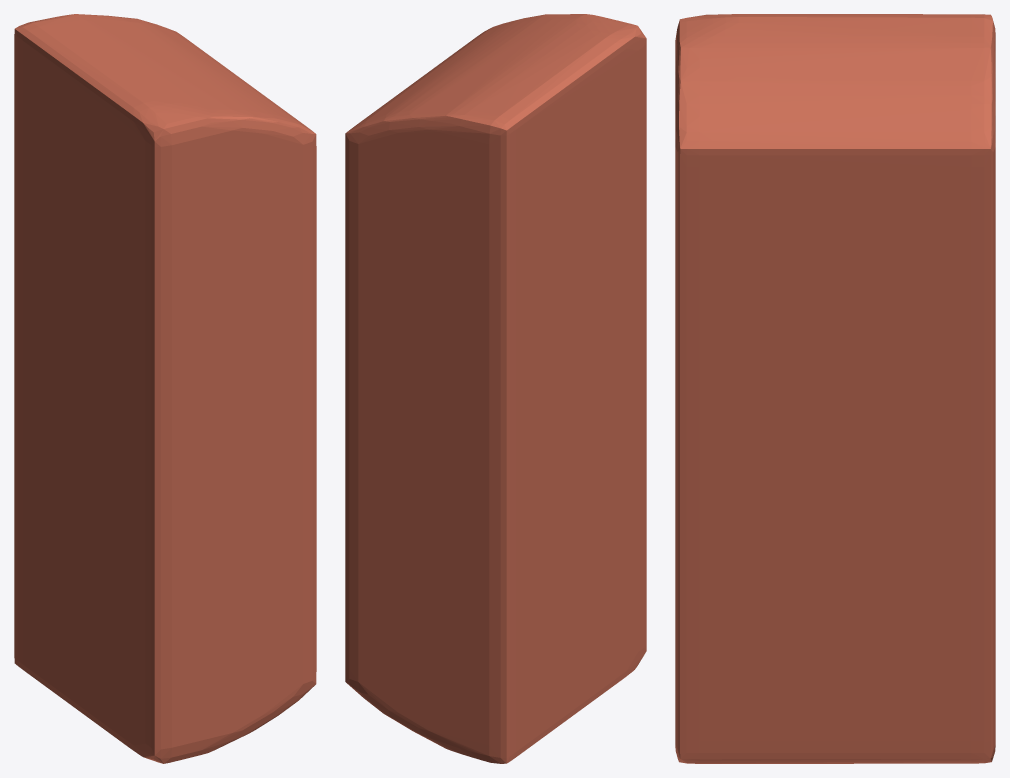
File: left_forearm_1_part_9.obj
3 renders of one model, left to right at view 1: azimuth 30°, elevation 25°; view 2: azimuth 150°, elevation 25°; view 3: azimuth 270°, elevation 25°, orthographic. The views are drawn at different scales.
Bounding box in the file's own units: 36.22 × 137 × 55.71.
